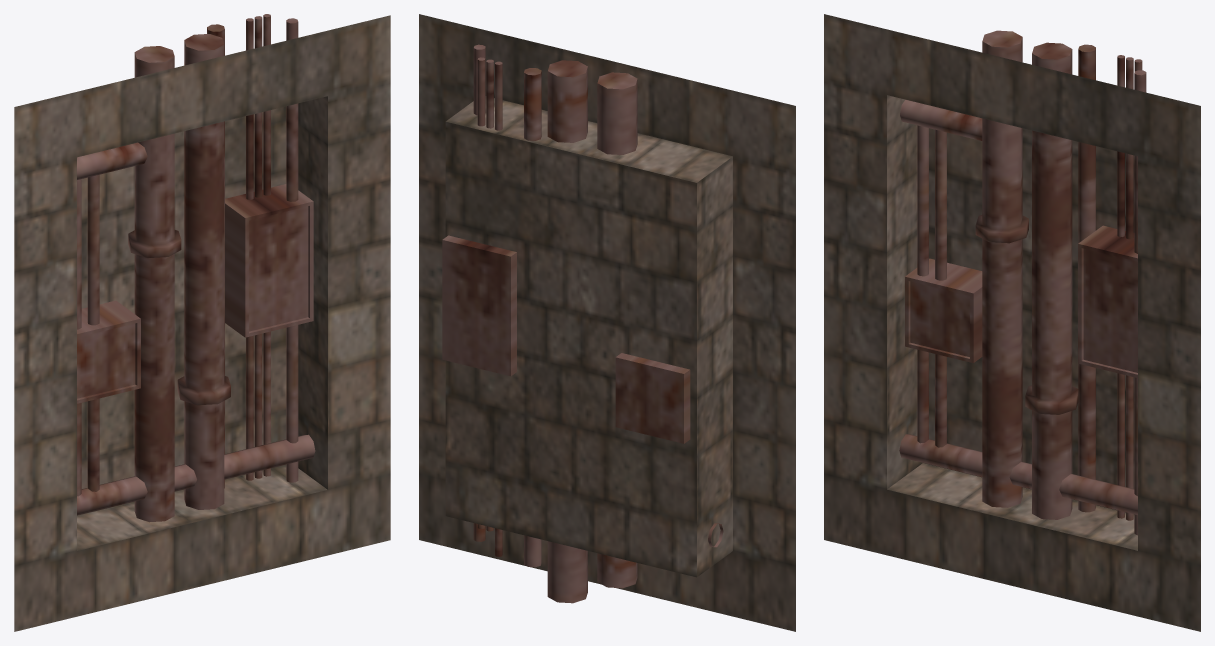
File: WallPipesInset.fbx
3 views of the same model, side by side, from view 1: azimuth 30°, elevation 25°; view 2: azimuth 150°, elevation 25°; view 3: azimuth 330°, elevation 25° (orthographic).
Visible parts, largest first — view 1: WallDefaultPipesInset2; view 2: WallDefaultPipesInset2; view 3: WallDefaultPipesInset2.
Boxes of the visible parts, x1,y1,x2,y2 form: WallDefaultPipesInset2: (14,14,390,631); WallDefaultPipesInset2: (419,14,795,631); WallDefaultPipesInset2: (824,14,1200,631).
Size of the model in its own units: 3 by 4 by 0.5836.
